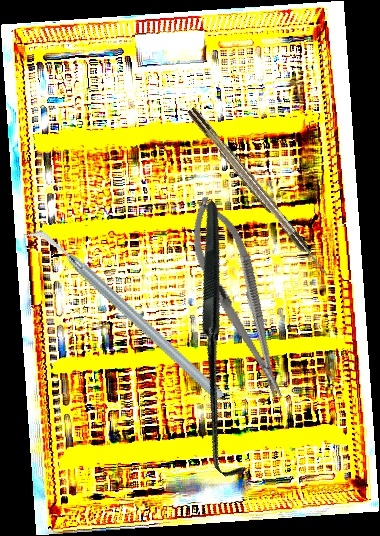Chopper: (22, 185, 227, 444)
Hook Surgical: (82, 200, 364, 484), (186, 105, 332, 280)
Needle Holder: (175, 188, 302, 409)
